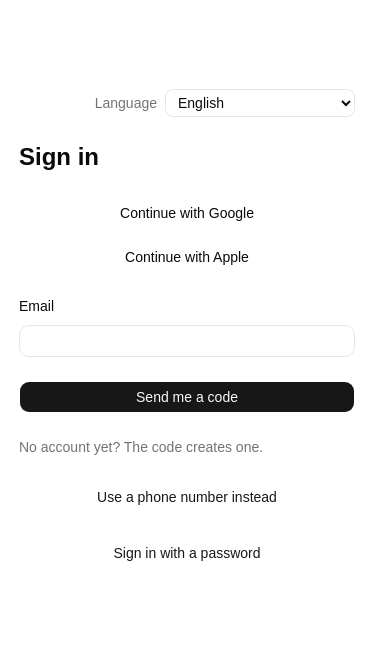
Test: App › takes a visitor who signs in to the page they were turned away from
Expected: the heading "Sign in" is shown, [19,143,99,170]
Step 1. Type "ana@example.com" into the field labelled "Email" → (187, 341), box [19,325,355,357]
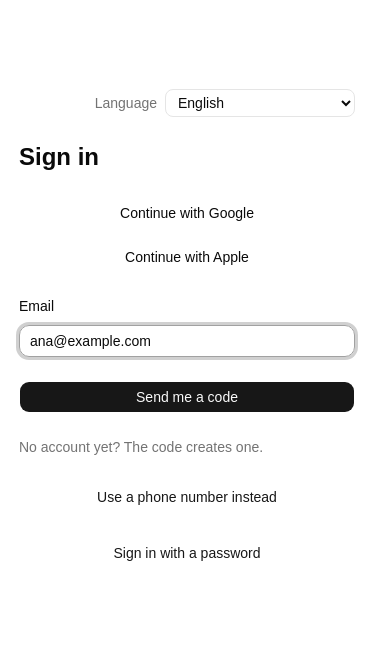
Step 2. Click the button "Send me a code" → (187, 397), box [19,381,355,413]
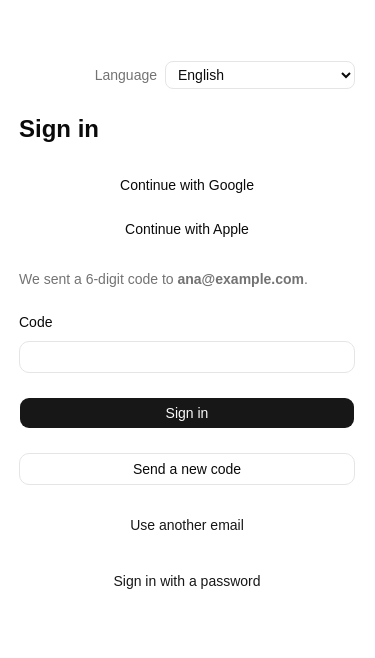
Step 3. Type "123456" into the field labelled "Code" → (187, 357), box [19,341,355,373]
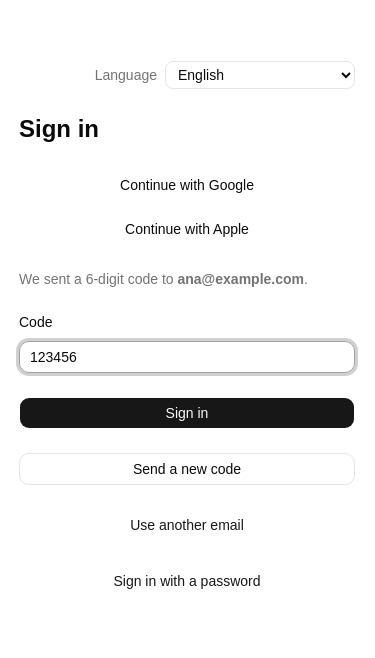
Step 4. Click the button "Sign in" → (187, 413), box [19,397,355,429]
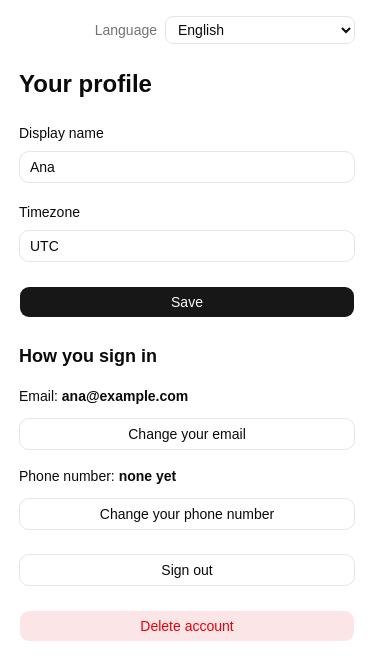
Now the heading "Your profile" is shown, box [19,70,152,97]
